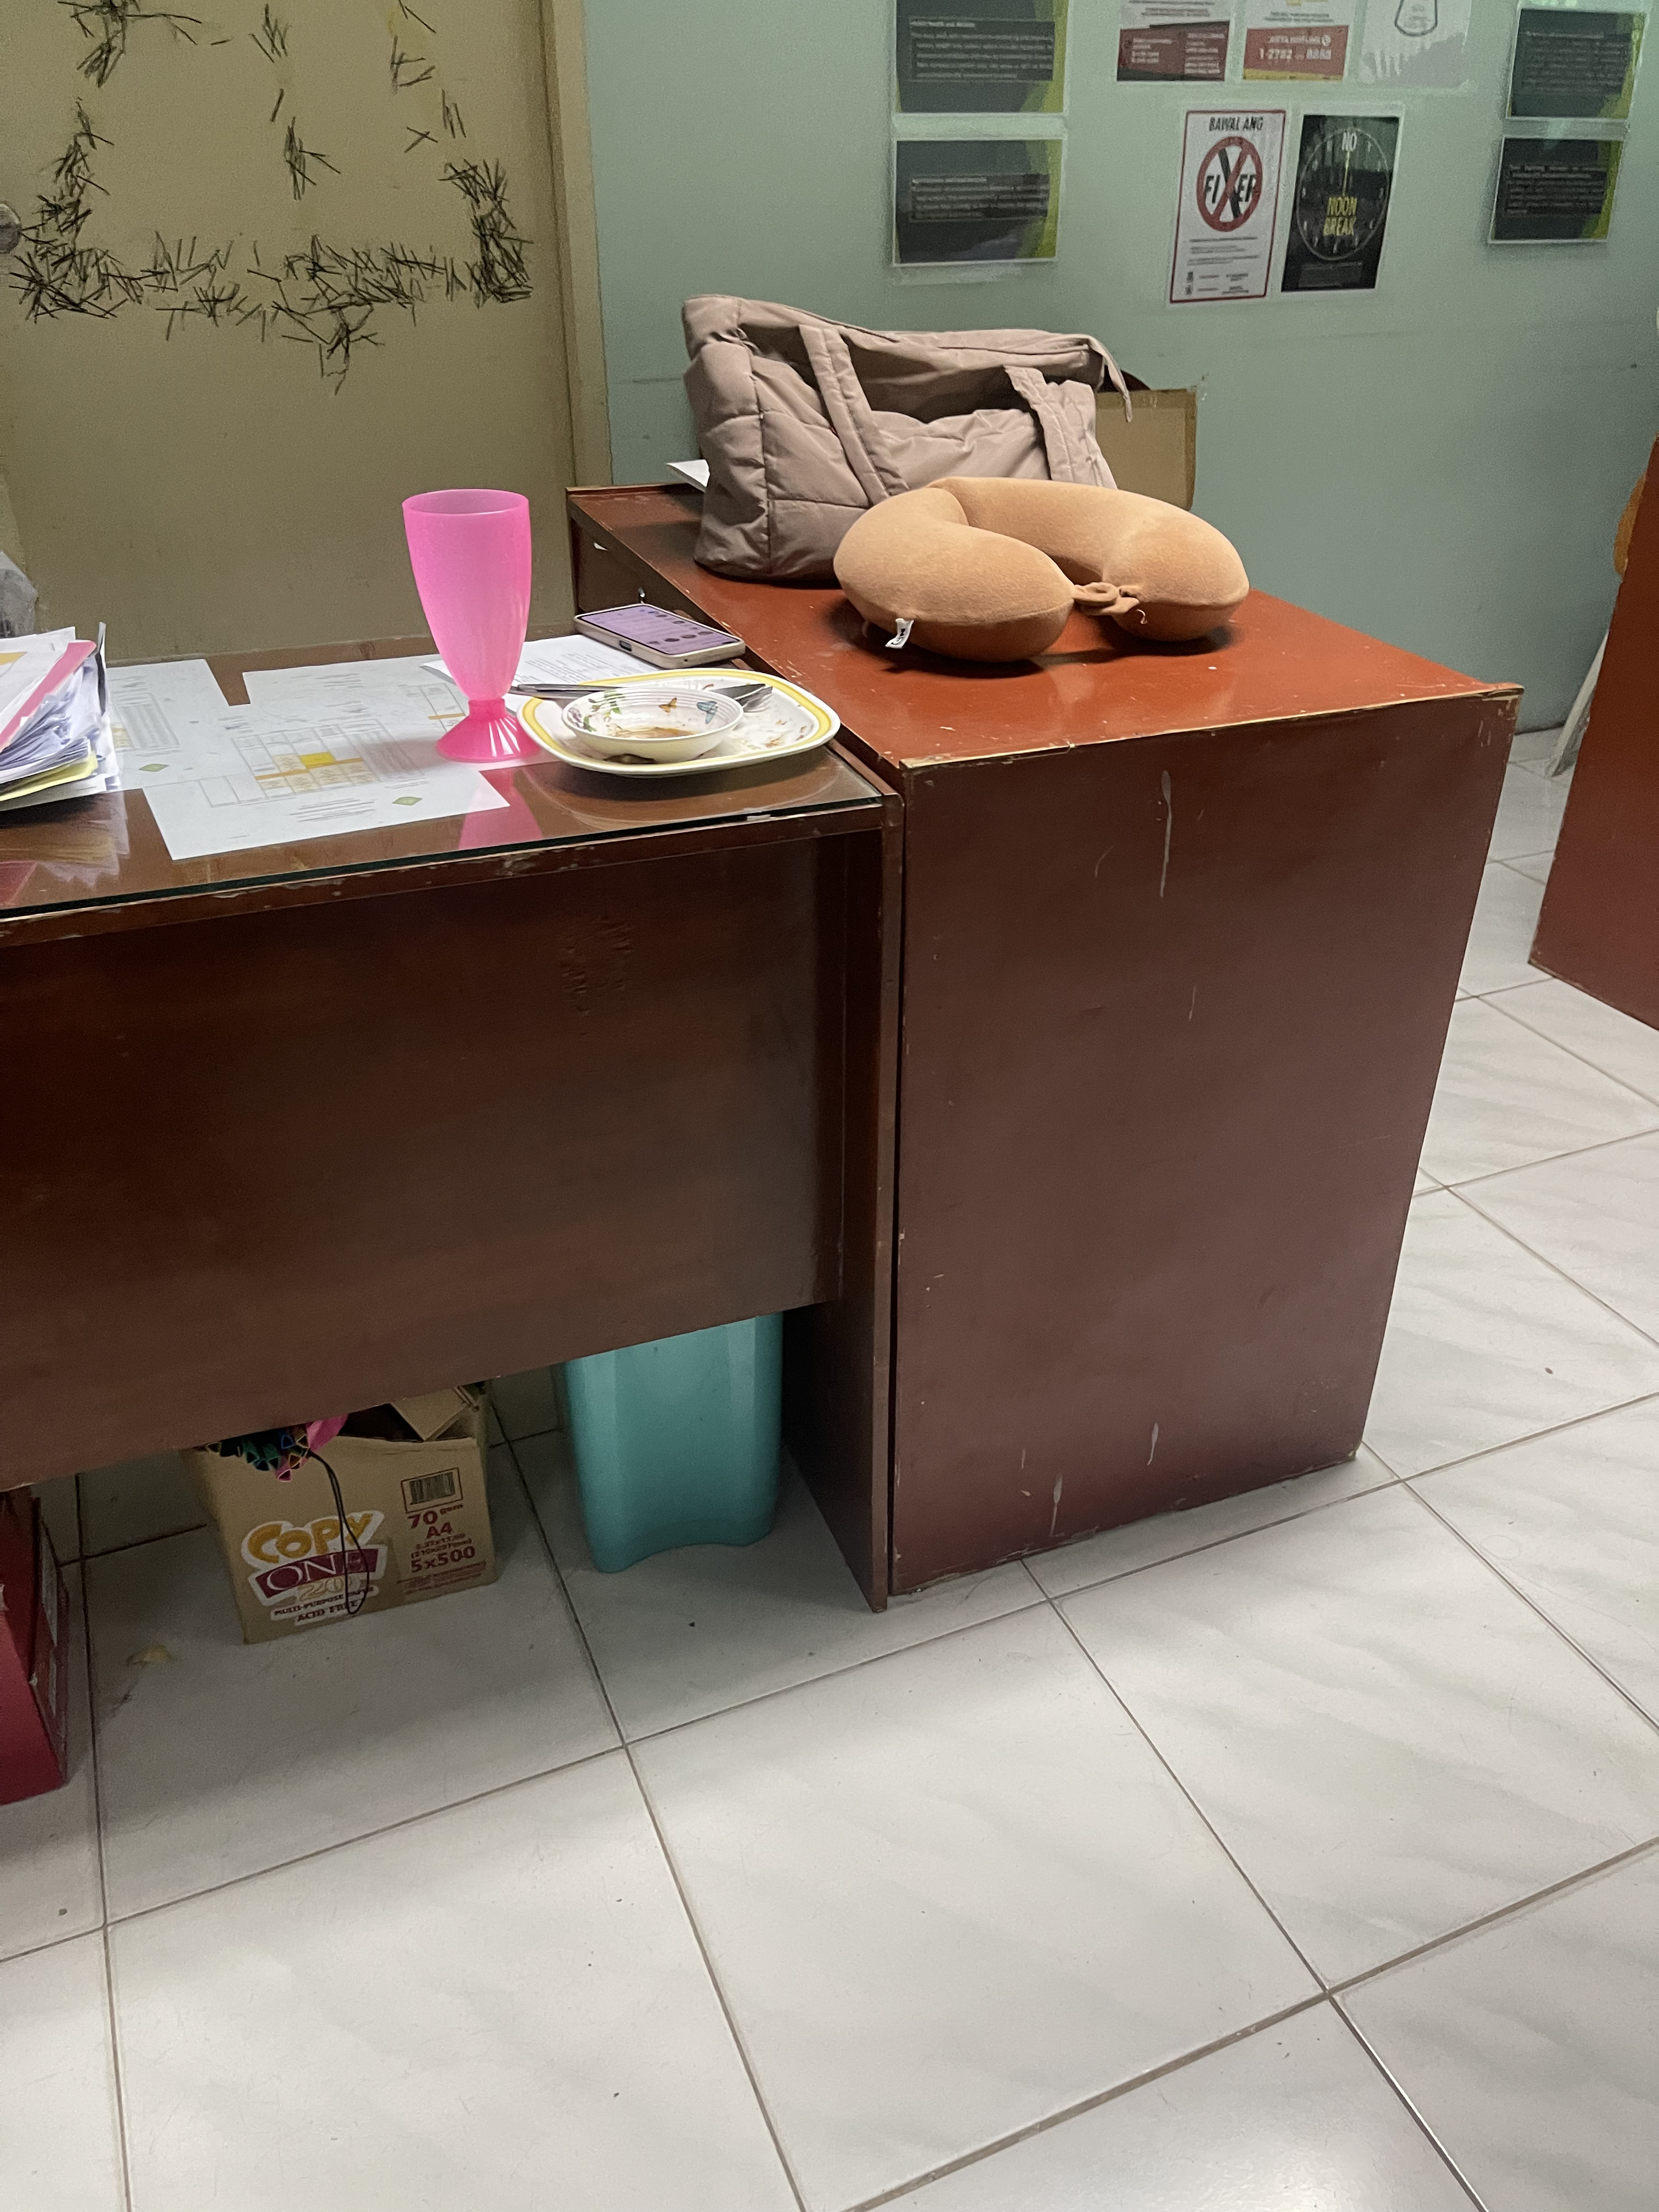table2: (0, 470, 1417, 1681)
